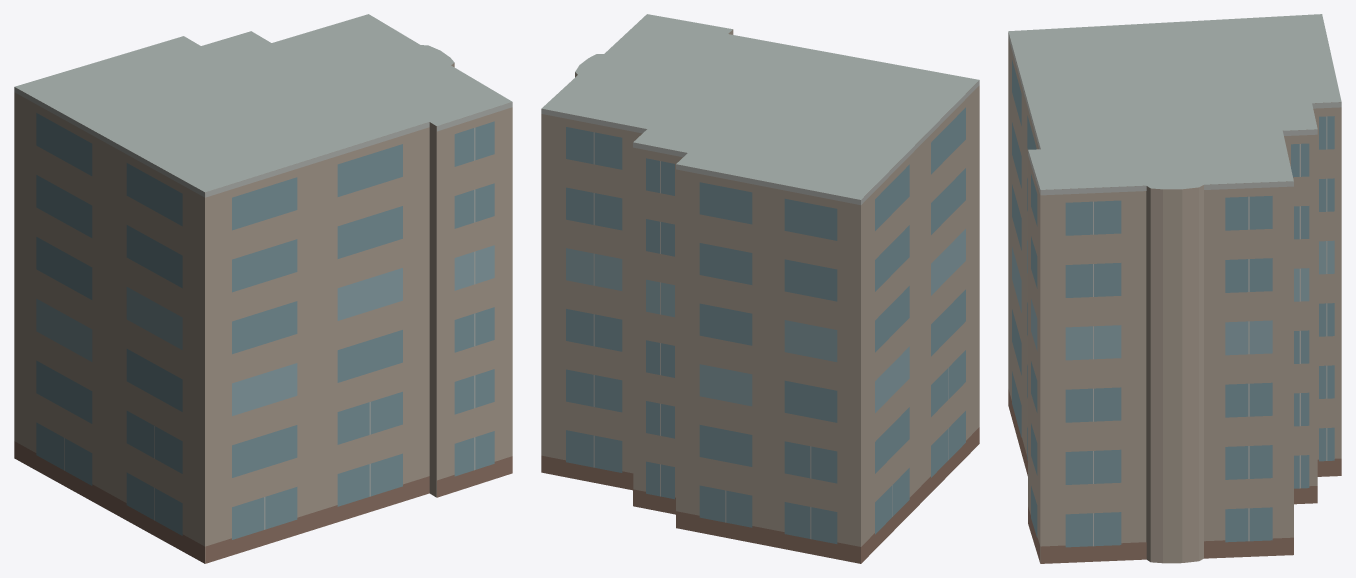
Rendered from survey-upis-32663099.glb.
The picture shows the model from 3 angles, left to right: view 1: azimuth 30°, elevation 25°; view 2: azimuth 150°, elevation 25°; view 3: azimuth 270°, elevation 25°; orthographic projection. The views are drawn at different scales.
Visible parts, largest first — view 1: survey-upis-32663099.tmp; view 2: survey-upis-32663099.tmp; view 3: survey-upis-32663099.tmp.
Boxes of the visible parts, bbox=[...] form: survey-upis-32663099.tmp: bbox=[14, 14, 512, 563]; survey-upis-32663099.tmp: bbox=[541, 14, 979, 563]; survey-upis-32663099.tmp: bbox=[1008, 14, 1341, 563].
Bounding box in the file's own units: 17.07 × 16.9 × 13.67.
